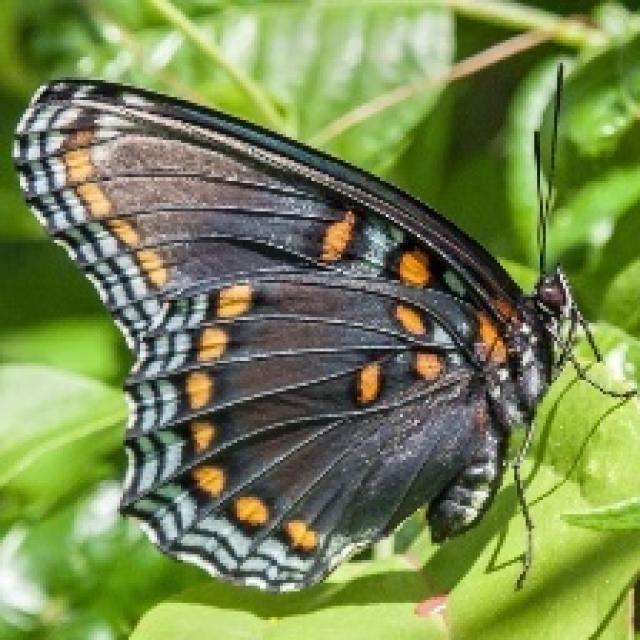butterfly: (9, 60, 637, 594)
